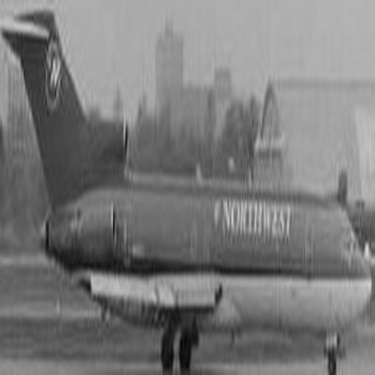airplane: (5, 2, 372, 374)
